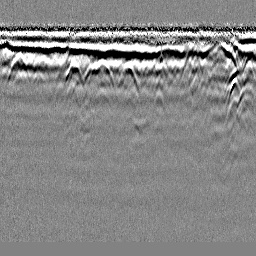cavity: (116, 60, 141, 95)
